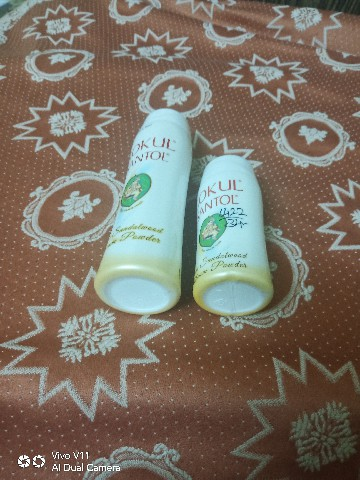gokulsantol big: (90, 92, 199, 321)
gokulsantol small: (192, 140, 281, 326)
